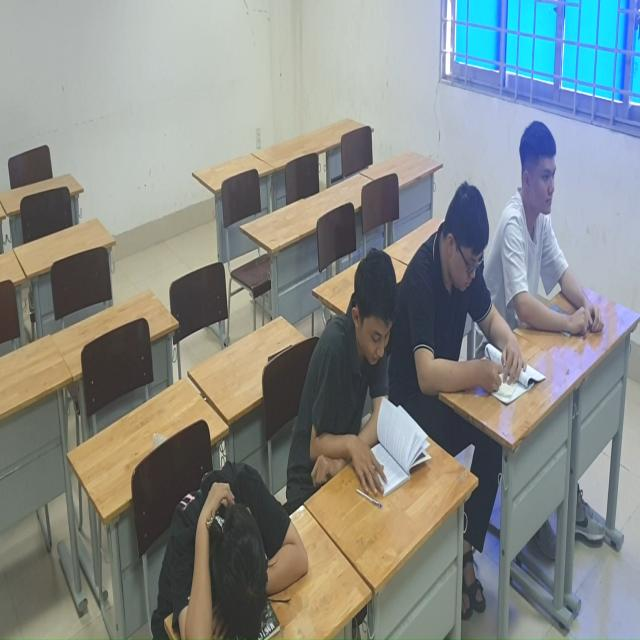read: (308, 252, 433, 506), (417, 183, 549, 402), (485, 120, 603, 359)
sleep: (154, 454, 310, 640)
